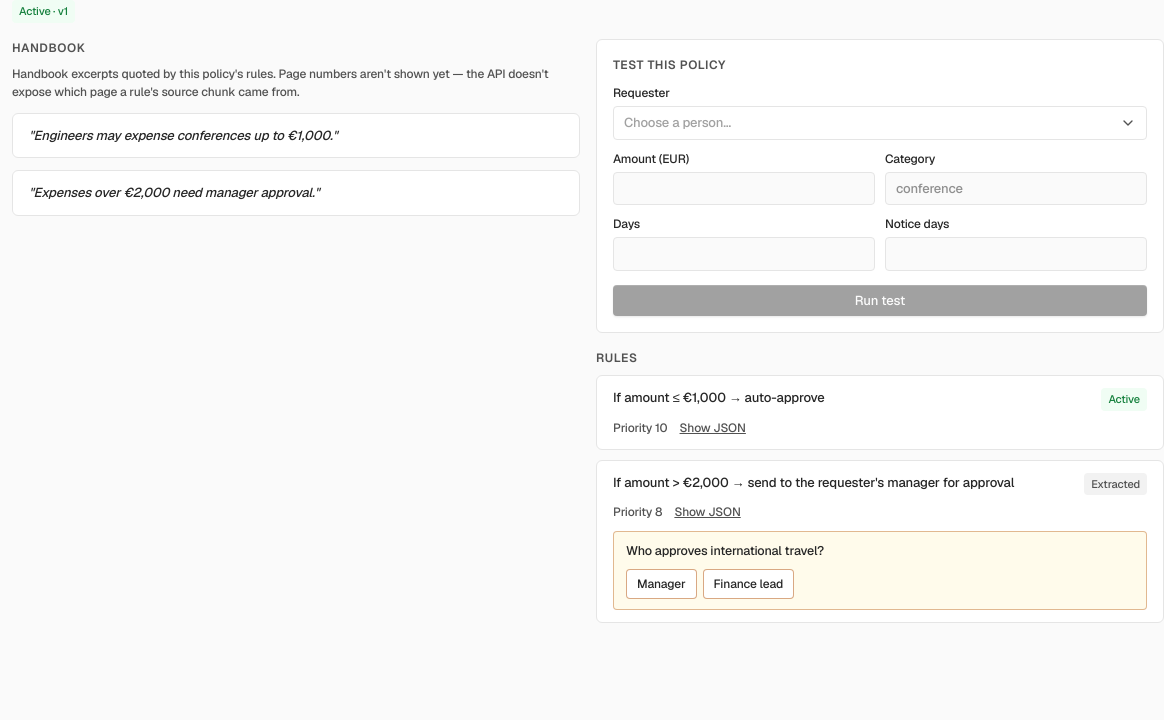
Test: PolicyDetail › highlights the matched rule card after running the tester
The width and height of the screenshot is (1164, 720).
Expected: the text "\"Engineers may expense conferences up to €1,000.\"" is shown, x1=12 y1=112 x2=580 y2=158
Click the dropdown named "Requester".
click(678, 122)  # box x1=613 y1=106 x2=1147 y2=140
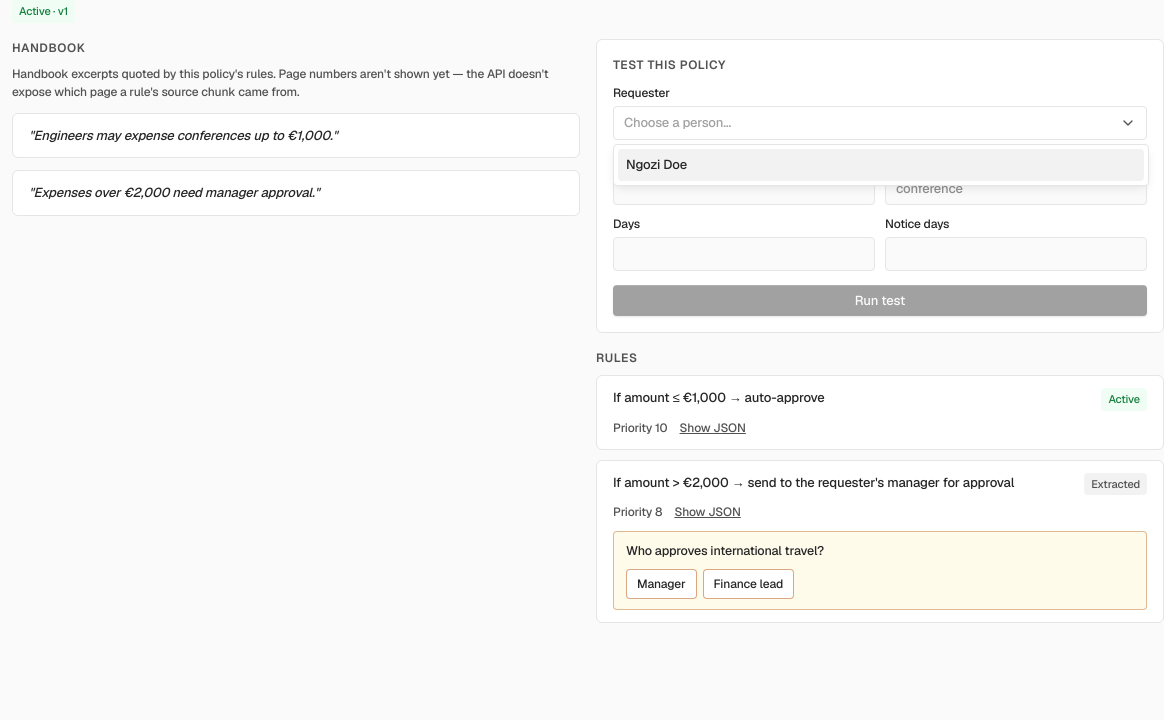
Click the option "Ngozi Doe".
click(657, 164)  # box x1=618 y1=149 x2=1144 y2=180
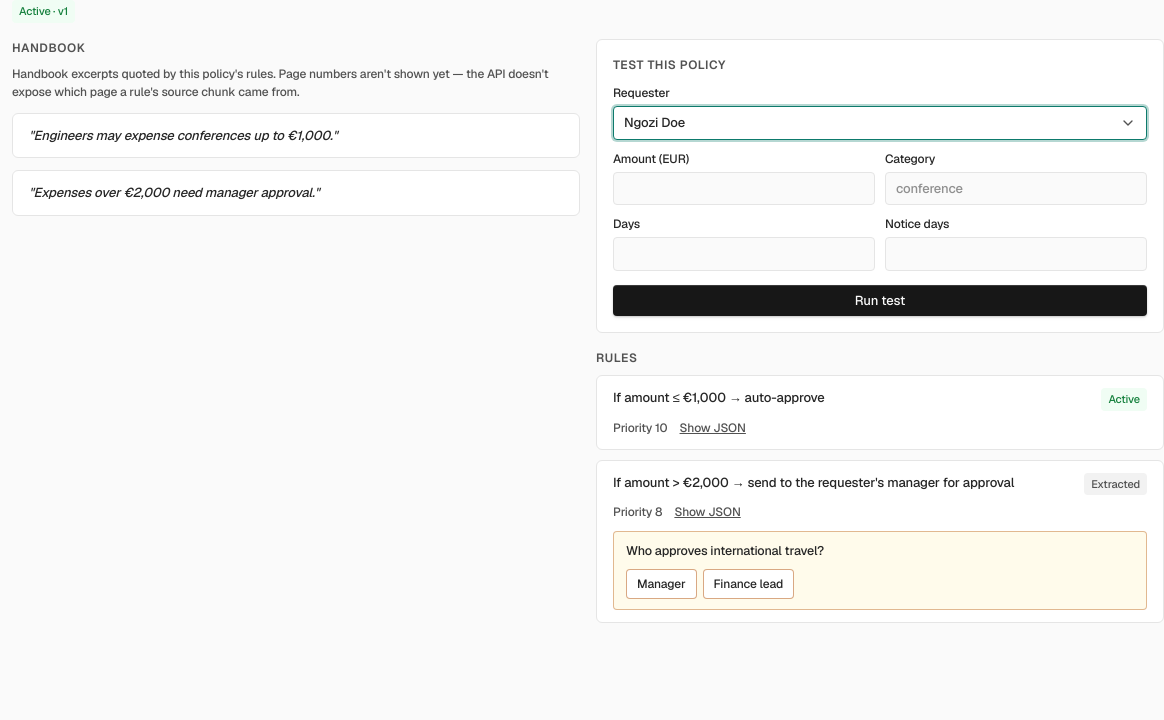
Click the button "Run test".
click(880, 300)  # box x1=613 y1=284 x2=1147 y2=316
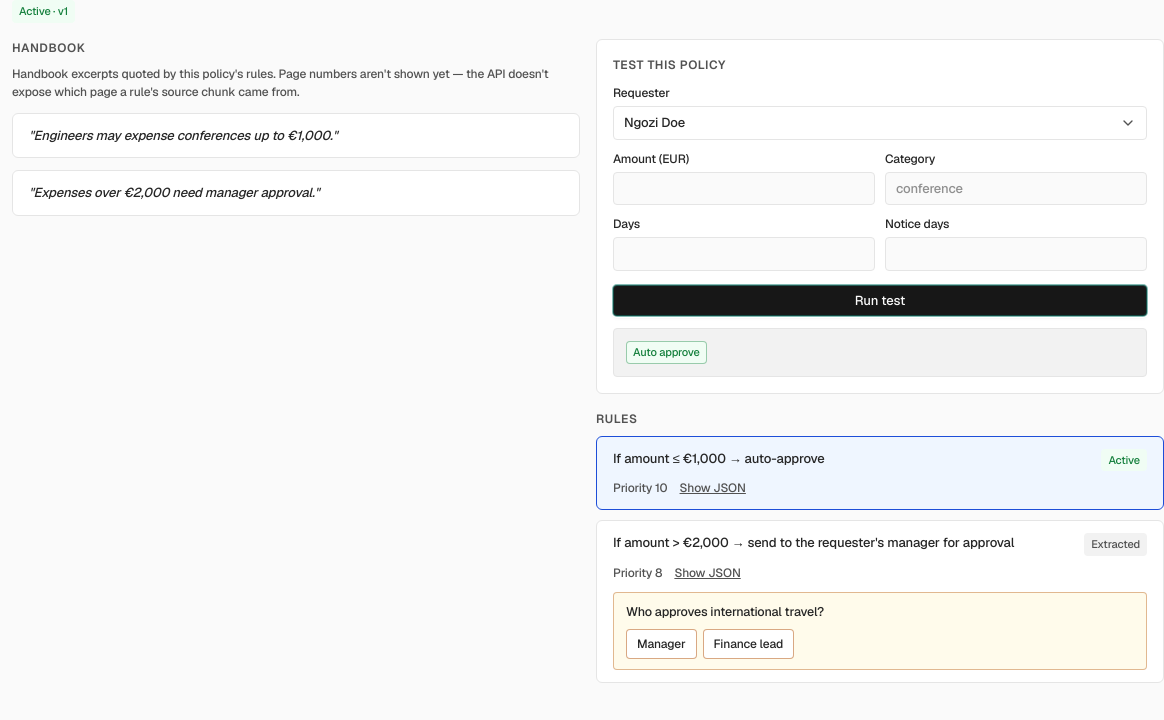
Expected: the text "Auto approve" is shown, x1=626 y1=341 x2=707 y2=364
